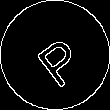P_NW: (25, 23, 85, 87)
